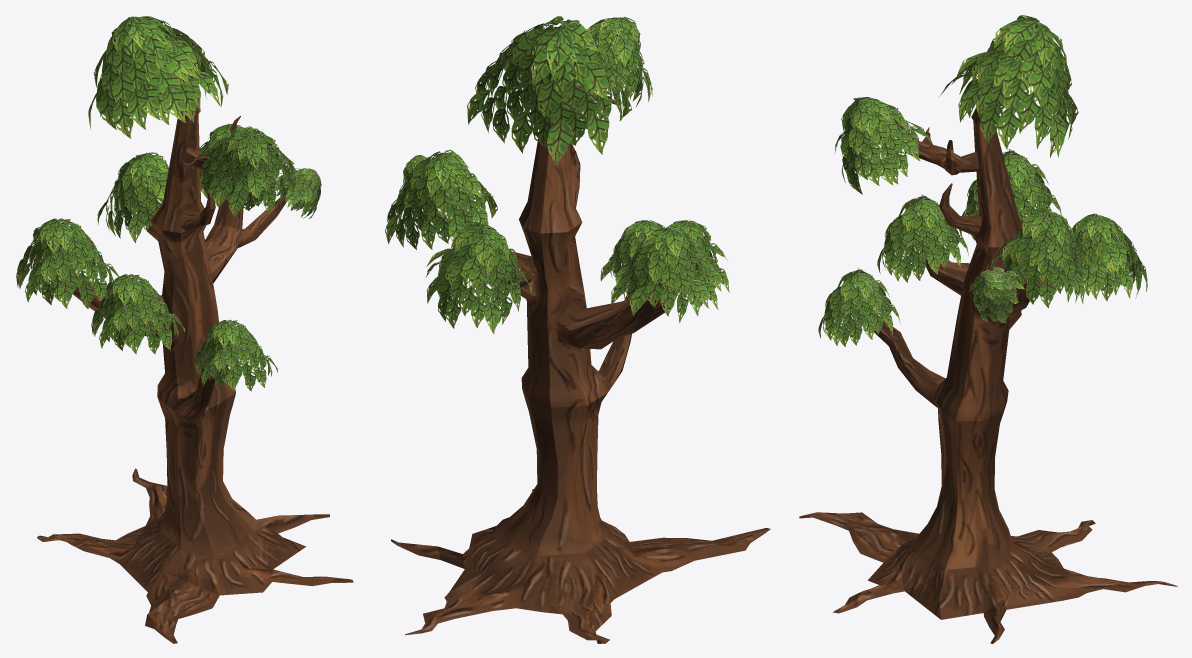
Rendered from LowPolyTree_03.gltf.
The picture shows the model from 3 angles, left to right: view 1: azimuth 30°, elevation 25°; view 2: azimuth 150°, elevation 25°; view 3: azimuth 270°, elevation 25°; orthographic projection. The views are drawn at different scales.
Parts seen in each view (by area): view 1: polySurface1, pasted__pPlane167_lambert3_0, pasted__pPlane168, pasted__pPlane163_lambert3_0, pasted__pPlane162_lambert3_0, pasted__pPlane164_lambert3_0, pasted__pPlane36, pasted__pPlane166, pasted__pPlane165_lambert3_0; view 2: polySurface1, pasted__pPlane167_lambert3_0, pasted__pPlane164_lambert3_0, pasted__pPlane165_lambert3_0, pasted__pPlane163_lambert3_0, pasted__pPlane168, pasted__pPlane36, pasted__pPlane162_lambert3_0; view 3: polySurface1, pasted__pPlane167_lambert3_0, pasted__pPlane165_lambert3_0, pasted__pPlane168, pasted__pPlane162_lambert3_0, pasted__pPlane164_lambert3_0, pasted__pPlane36, pasted__pPlane163_lambert3_0, pasted__pPlane166.
Part boxes in pixels (box(x1,y1,x2,y2)): polySurface1: box(37, 42, 353, 643); pasted__pPlane167_lambert3_0: box(88, 16, 228, 138); pasted__pPlane168: box(200, 126, 296, 217); pasted__pPlane163_lambert3_0: box(16, 218, 118, 308); pasted__pPlane162_lambert3_0: box(91, 274, 184, 354); pasted__pPlane164_lambert3_0: box(97, 152, 168, 243); pasted__pPlane36: box(194, 319, 277, 391); pasted__pPlane166: box(274, 168, 321, 218); pasted__pPlane165_lambert3_0: box(199, 123, 277, 207); polySurface1: box(391, 58, 770, 643); pasted__pPlane167_lambert3_0: box(467, 16, 631, 165); pasted__pPlane164_lambert3_0: box(425, 221, 532, 333); pasted__pPlane165_lambert3_0: box(385, 149, 497, 249); pasted__pPlane163_lambert3_0: box(611, 227, 718, 322); pasted__pPlane168: box(577, 16, 652, 107); pasted__pPlane36: box(600, 220, 664, 284); pasted__pPlane162_lambert3_0: box(637, 219, 729, 298); polySurface1: box(799, 67, 1177, 643); pasted__pPlane167_lambert3_0: box(939, 15, 1078, 157); pasted__pPlane165_lambert3_0: box(989, 208, 1084, 308); pasted__pPlane168: box(835, 97, 933, 194); pasted__pPlane162_lambert3_0: box(877, 194, 969, 282); pasted__pPlane164_lambert3_0: box(1051, 213, 1147, 301); pasted__pPlane36: box(818, 268, 900, 346); pasted__pPlane163_lambert3_0: box(959, 149, 1061, 240); pasted__pPlane166: box(969, 267, 1024, 323).
Bounding box in the file's own units: 3.08 × 5.21 × 3.3.
Materials: 2 (2 with a texture image).
